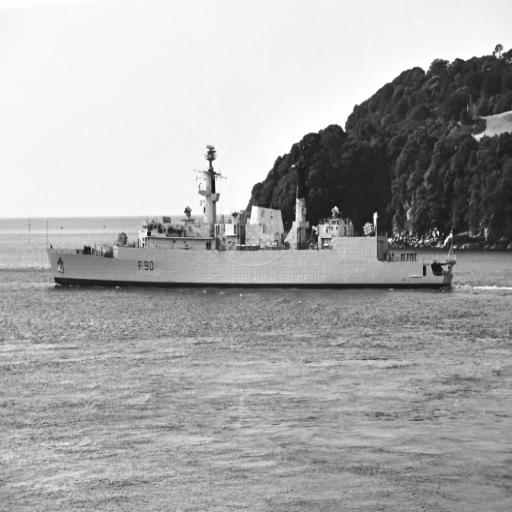Fragata: (45, 129, 458, 296)
